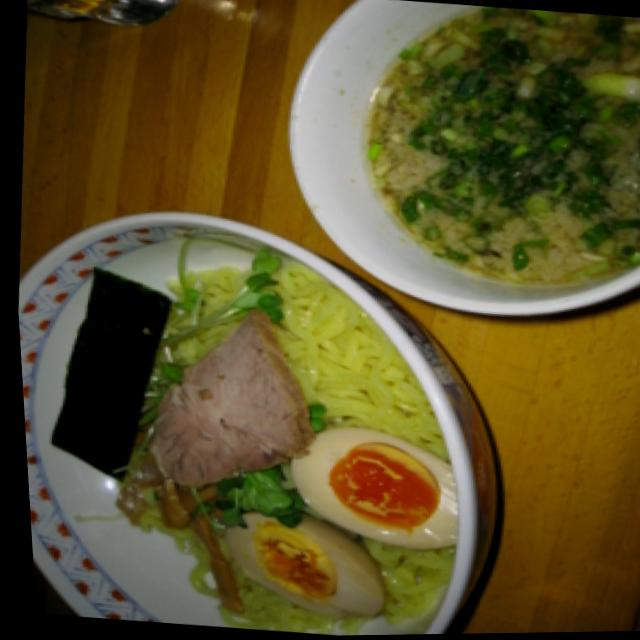面条主食: (2, 34, 640, 507)
